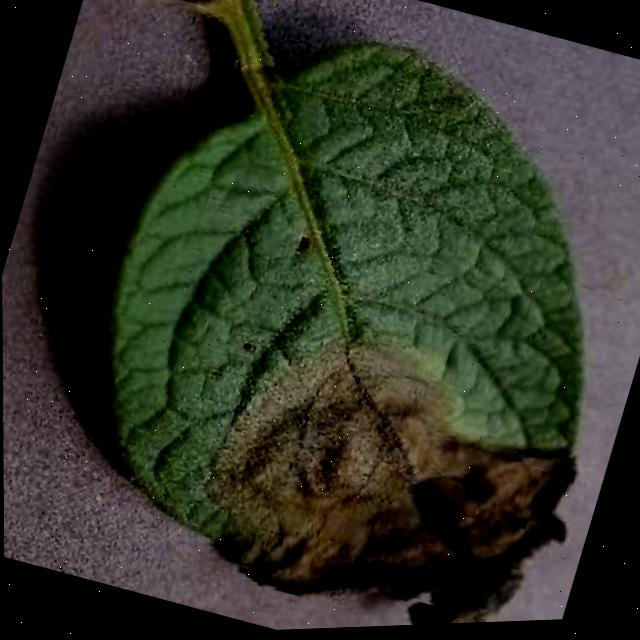Late_blight: (181, 312, 610, 633)
